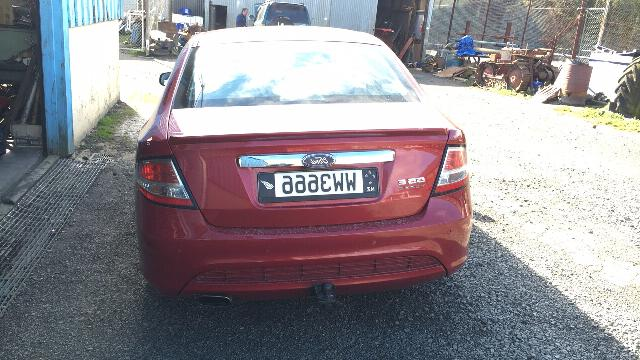Rego: (258, 167, 381, 205), (257, 166, 379, 204)
